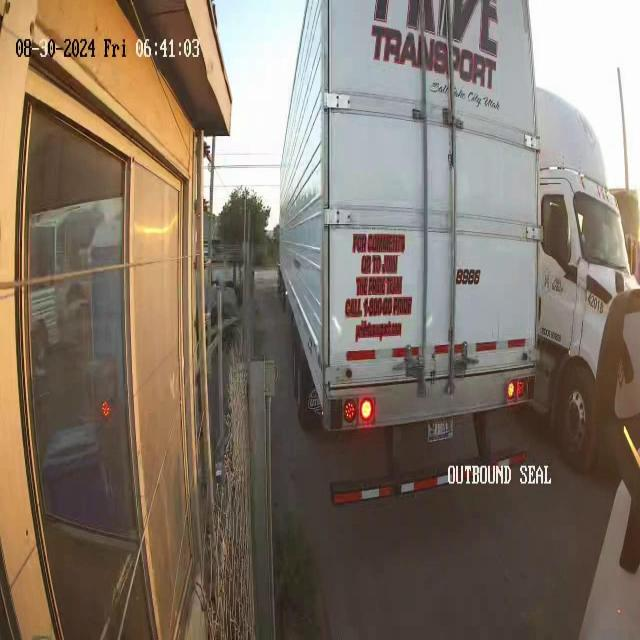TRUCK_IN: (529, 88, 640, 463)
TRUCK_OUT: (272, 4, 540, 482)
